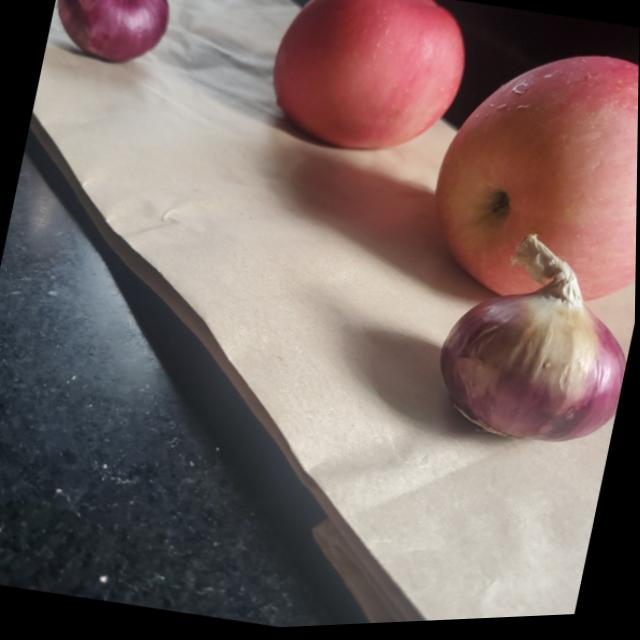apple: (420, 34, 639, 325), (255, 0, 476, 172)
onion: (428, 223, 637, 464), (48, 0, 184, 75)
